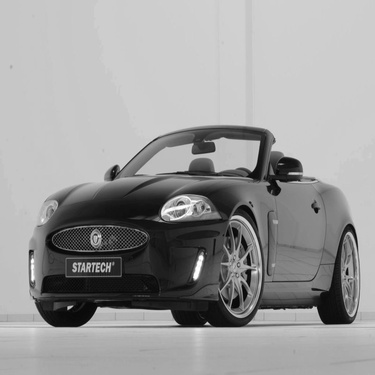car: (18, 115, 368, 331)
